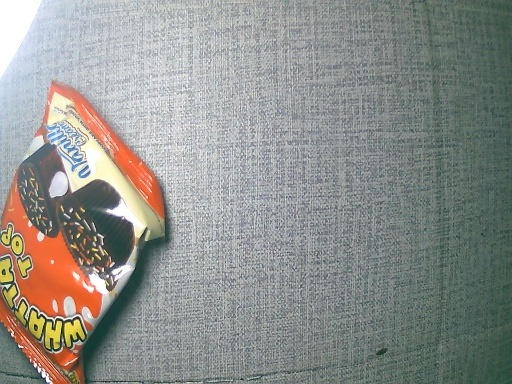plastic: (1, 84, 170, 384)
